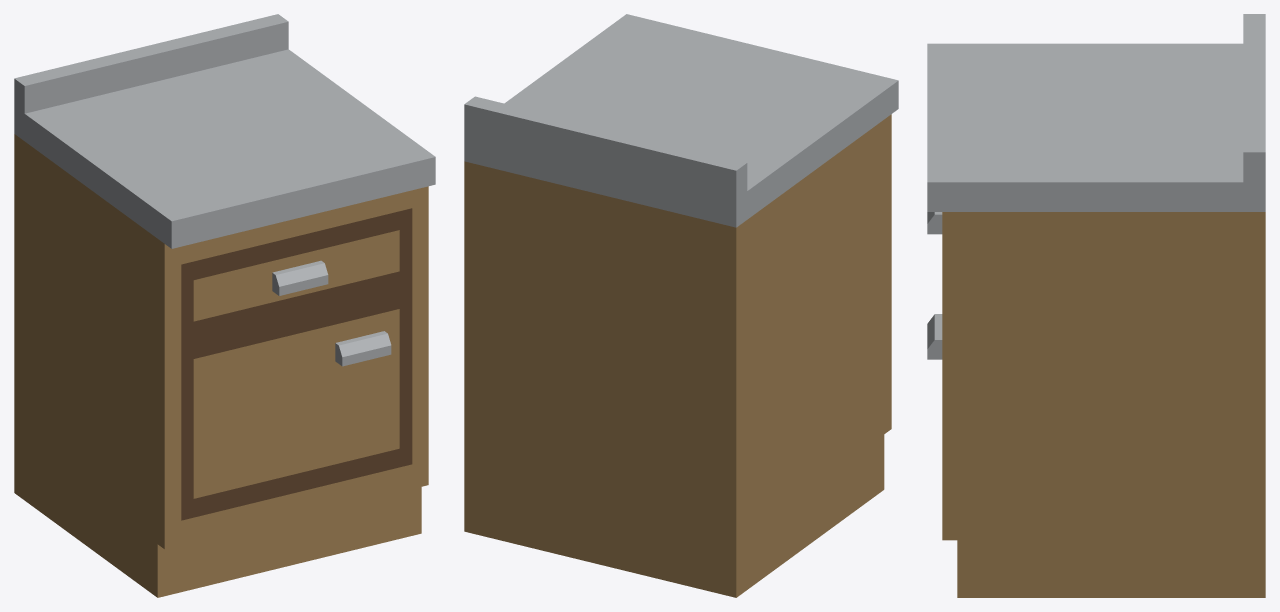
Rendered from base_unit_drawers.glb.
3 renders of one model, left to right at view 1: azimuth 30°, elevation 25°; view 2: azimuth 150°, elevation 25°; view 3: azimuth 270°, elevation 25°, orthographic. The views are drawn at different scales.
Visible parts, largest first — view 1: base_unit_drawers; view 2: base_unit_drawers; view 3: base_unit_drawers.
Boxes of the visible parts, left/top/right/bottom form: base_unit_drawers: left=14, top=14, right=435, bottom=597; base_unit_drawers: left=464, top=14, right=898, bottom=597; base_unit_drawers: left=927, top=14, right=1265, bottom=597.
Bounding box in the file's own units: 0.6 × 0.9 × 0.62.
